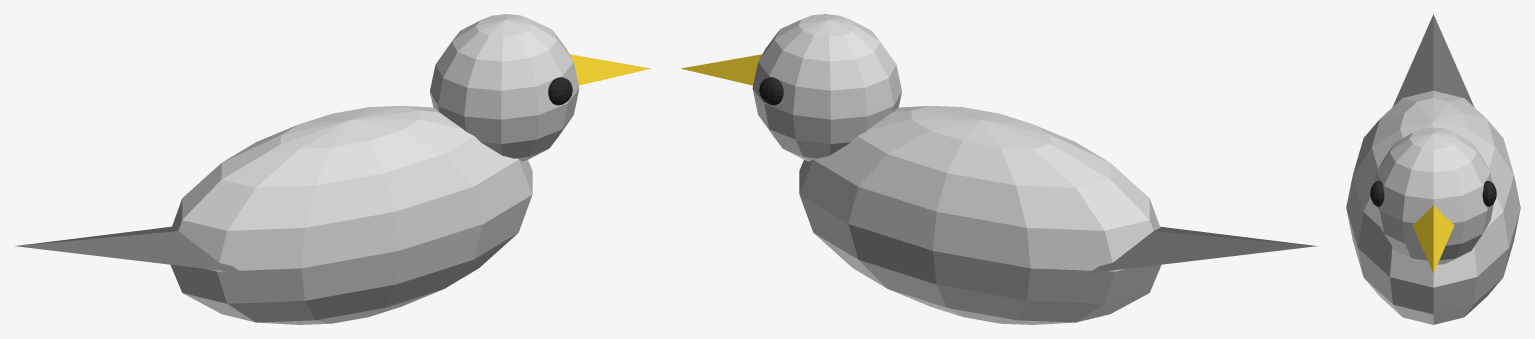
The model's file is SM_Animal_Gull.fbx.
The picture shows the model from 3 angles, left to right: view 1: azimuth 30°, elevation 25°; view 2: azimuth 150°, elevation 25°; view 3: azimuth 270°, elevation 25°; orthographic projection. The views are drawn at different scales.
Parts seen in each view (by area): view 1: SM_Animal_Gull; view 2: SM_Animal_Gull; view 3: SM_Animal_Gull.
Boxes of the visible parts, x1=… form: SM_Animal_Gull: x1=14, y1=14, x2=650, y2=324; SM_Animal_Gull: x1=681, y1=14, x2=1317, y2=324; SM_Animal_Gull: x1=1346, y1=14, x2=1520, y2=324.
Size of the model in its own units: 91 by 24 by 34.5.
